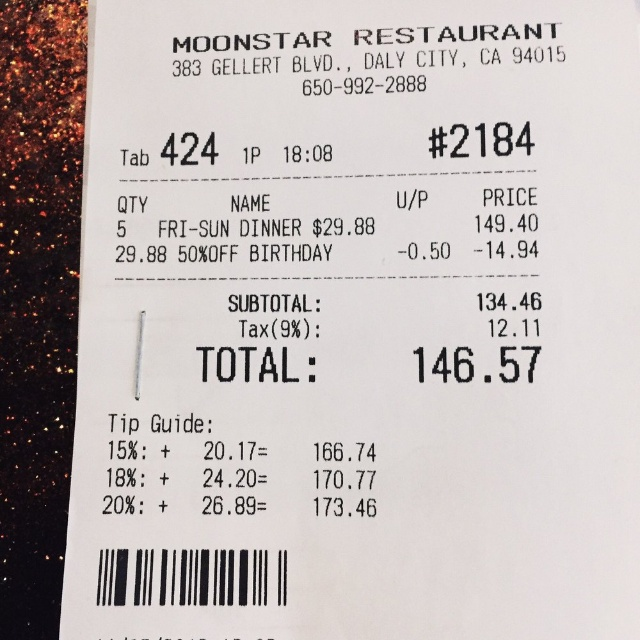invoice_table: (111, 214, 541, 262)
invoice_title: (164, 21, 567, 97)
invoice_total: (198, 345, 542, 387)
